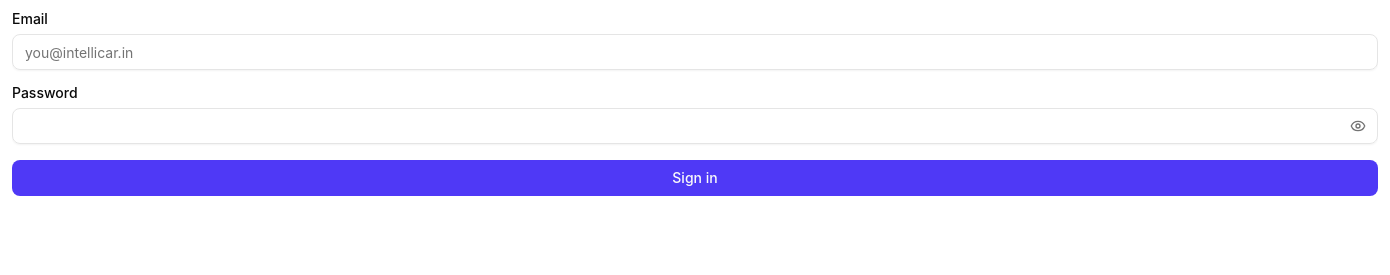
LoginForm › shows the server error for wrong credentials
Type "admin@intellicar.in" into the field labelled "Email" at (695, 52), box [12,34,1378,70]
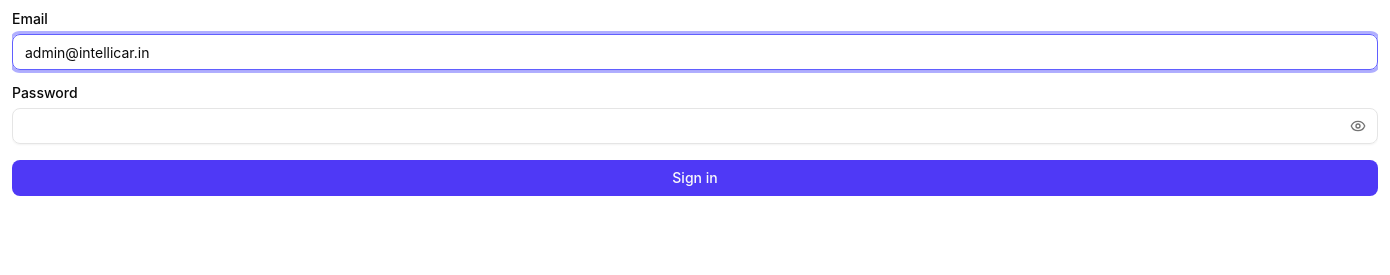
Type "wrong-pass1" into the password field labelled "Password" at (695, 126), box [12,108,1378,144]
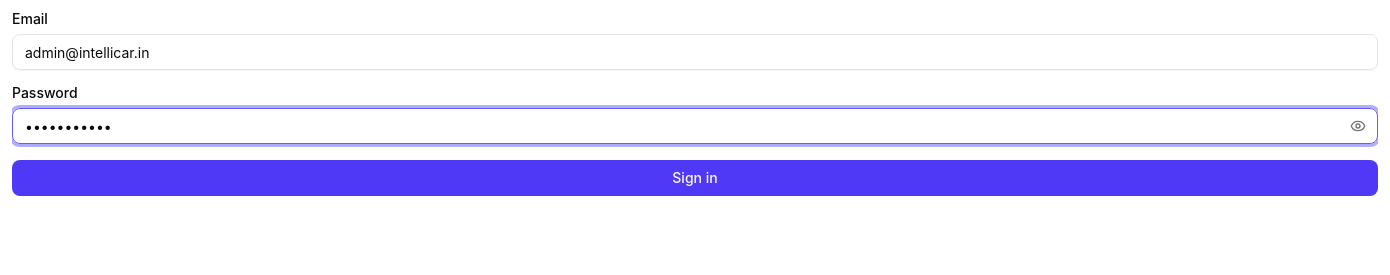
Click the button "Sign in" at (695, 178), box [12,160,1378,196]
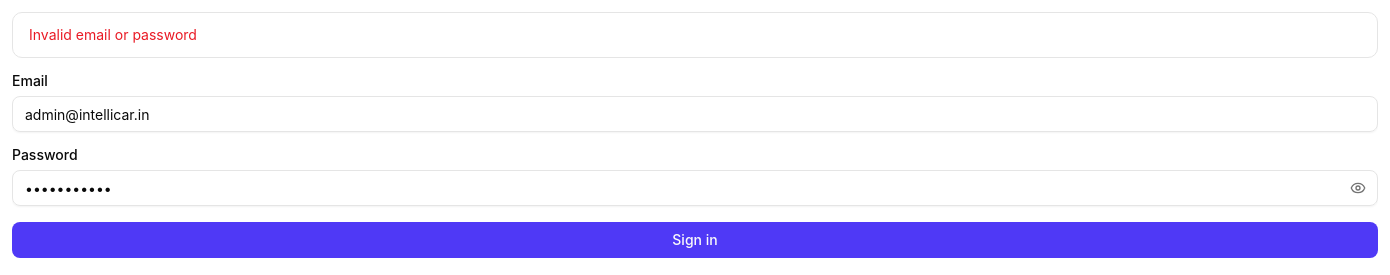
Expected: the message reads "Invalid email or password", [29,26,197,43]
